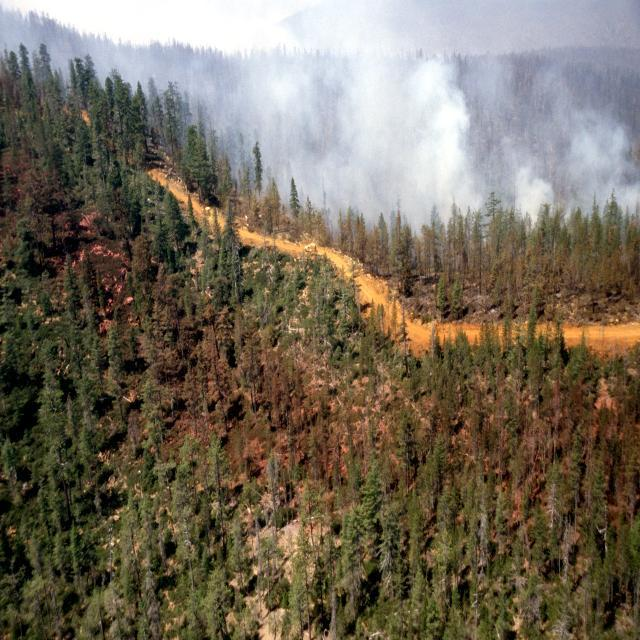Smoke: (194, 0, 630, 235)
